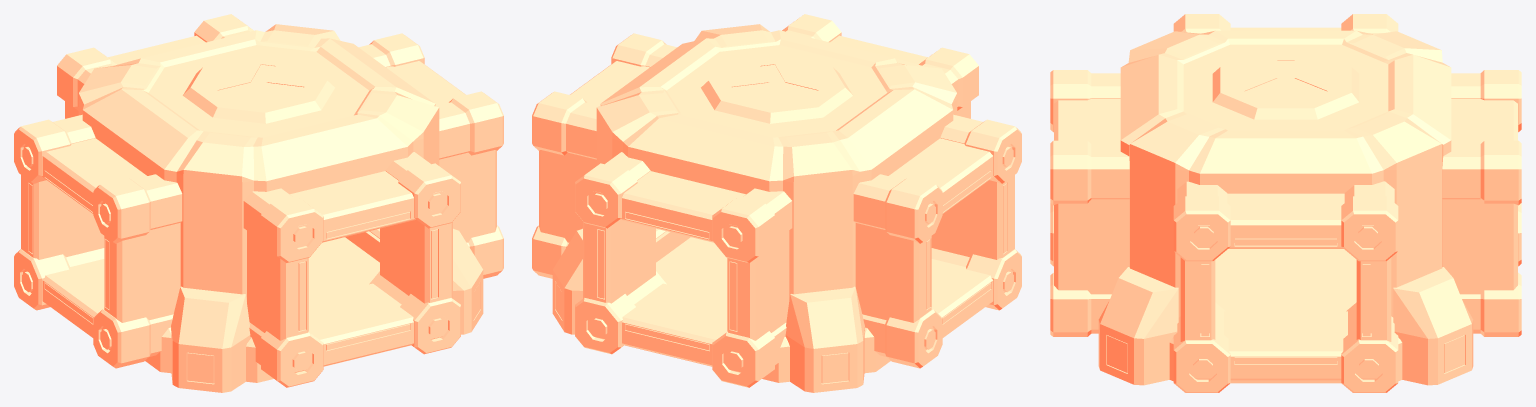
The model's file is splitter.glb.
3 views of the same model, side by side, from view 1: azimuth 30°, elevation 25°; view 2: azimuth 150°, elevation 25°; view 3: azimuth 270°, elevation 25° (orthographic). The views are drawn at different scales.
Visible parts, largest first — view 1: Body, Port.002, Port, Head, Base, Port.001, Light, Port.003; view 2: Body, Port.003, Port, Head, Base, Port.001, Light, Port.002; view 3: Body, Port.001, Base, Port.002, Port.003, Head, Light, Port.
Part boxes in pixels (x1,y1,x2,y2): Body: [78, 24, 439, 301]; Port.002: [243, 152, 460, 387]; Port: [14, 114, 182, 368]; Head: [148, 45, 369, 137]; Base: [145, 228, 483, 392]; Port.001: [359, 33, 503, 278]; Light: [28, 64, 480, 383]; Port.003: [57, 14, 253, 118]; Body: [596, 24, 957, 299]; Port.003: [575, 152, 792, 387]; Port: [853, 114, 1021, 368]; Head: [666, 45, 887, 137]; Base: [552, 228, 890, 392]; Port.001: [532, 33, 676, 278]; Light: [555, 64, 1007, 383]; Port.002: [782, 14, 978, 118]; Body: [1120, 30, 1451, 317]; Port.001: [1173, 181, 1398, 392]; Base: [1098, 249, 1473, 385]; Port.002: [1050, 70, 1129, 336]; Port.003: [1442, 70, 1521, 336]; Head: [1183, 44, 1388, 130]; Light: [1107, 61, 1464, 372]; Port: [1173, 14, 1398, 34].
Bounding box in the file's own units: 1.01 × 0.5353 × 1.01.
